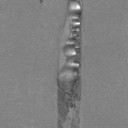slag inclusion: (56, 0, 84, 128), (55, 55, 60, 68), (56, 36, 60, 46)
